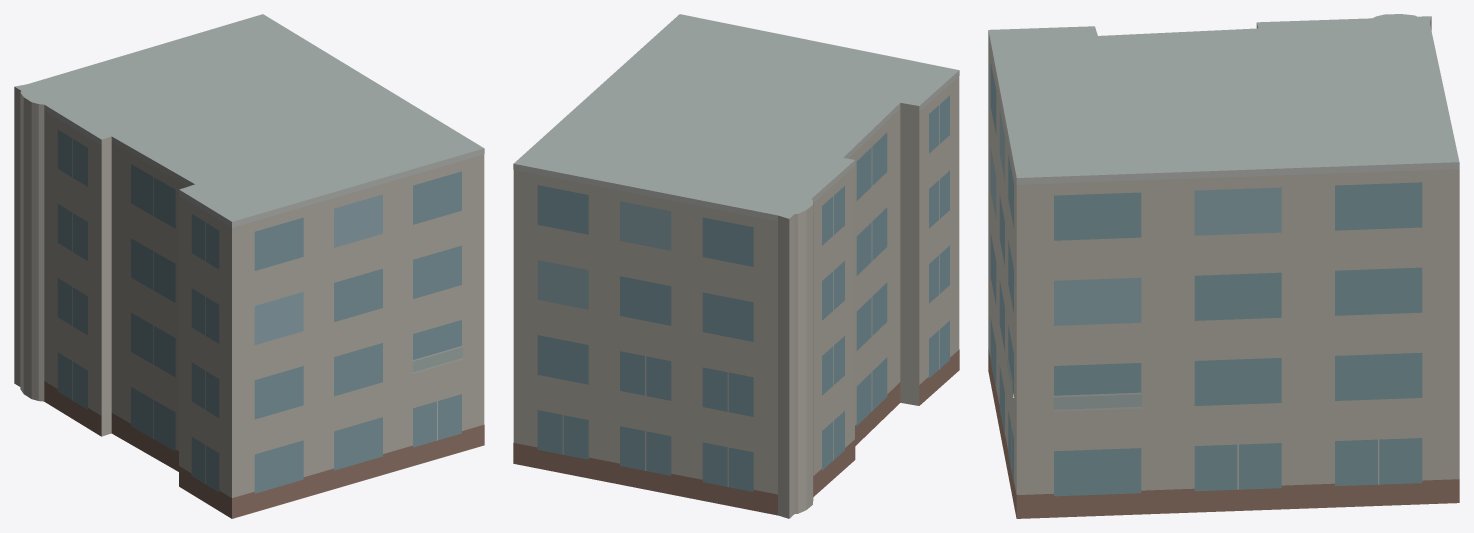
Rendered from survey-upis-32726703.glb.
3 views of the same model, side by side, from view 1: azimuth 30°, elevation 25°; view 2: azimuth 150°, elevation 25°; view 3: azimuth 270°, elevation 25° (orthographic). The views are drawn at different scales.
Visible parts, largest first — view 1: survey-upis-32726703.tmp; view 2: survey-upis-32726703.tmp; view 3: survey-upis-32726703.tmp.
Part boxes in pixels (bbox=[...]): survey-upis-32726703.tmp: bbox=[14, 14, 484, 518]; survey-upis-32726703.tmp: bbox=[513, 14, 959, 518]; survey-upis-32726703.tmp: bbox=[988, 14, 1459, 518].
Bounding box in the file's own units: 12.81 × 12.4 × 15.55.
